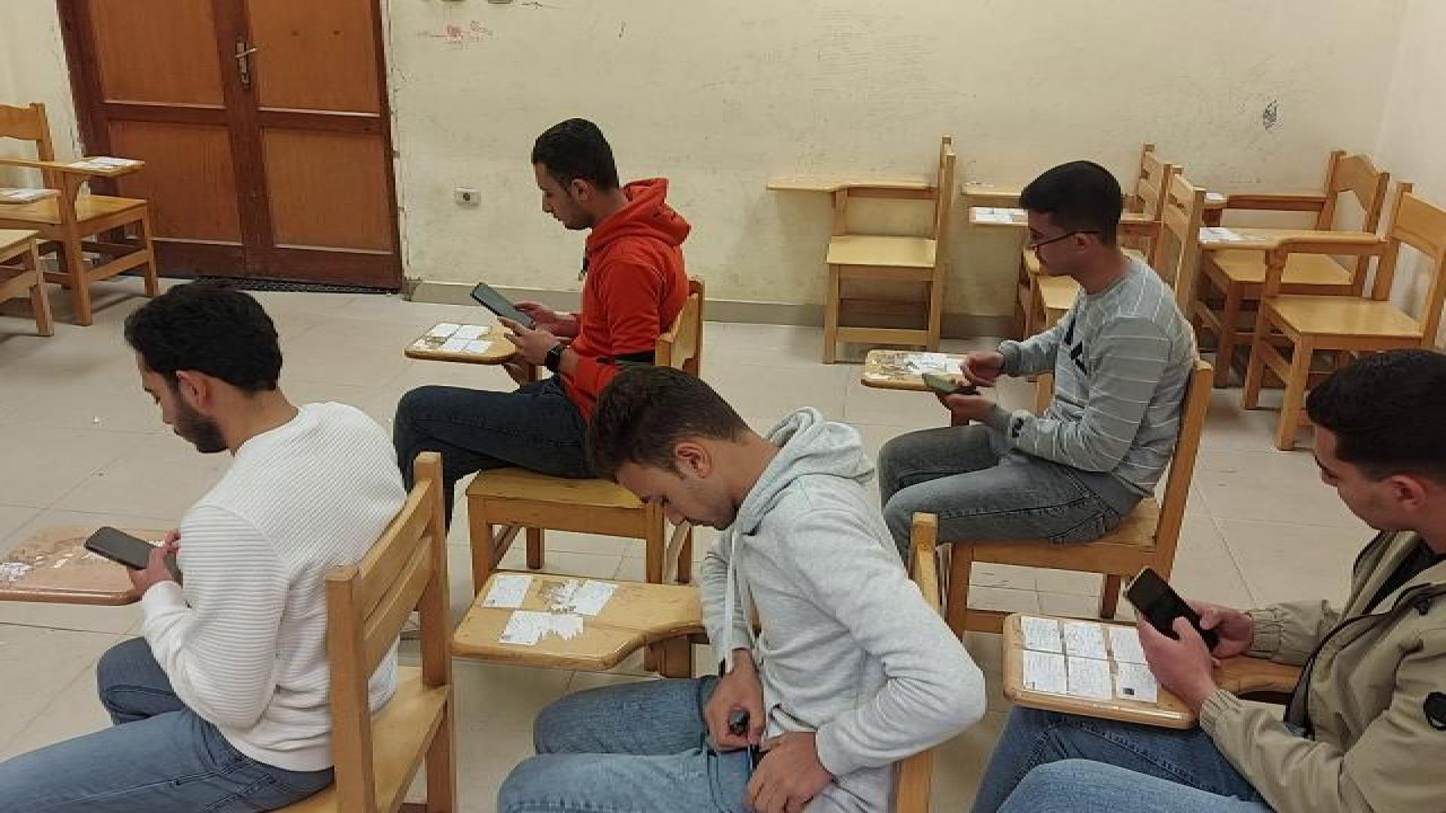phone: (1117, 563, 1226, 655), (78, 525, 175, 577), (468, 278, 538, 330), (916, 366, 988, 397)
